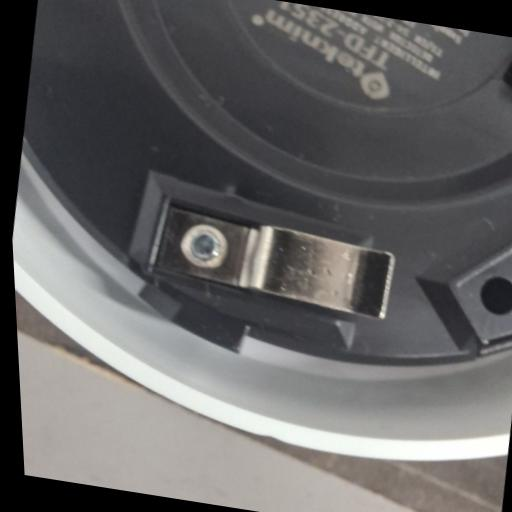yaysiz: (141, 191, 423, 332)
